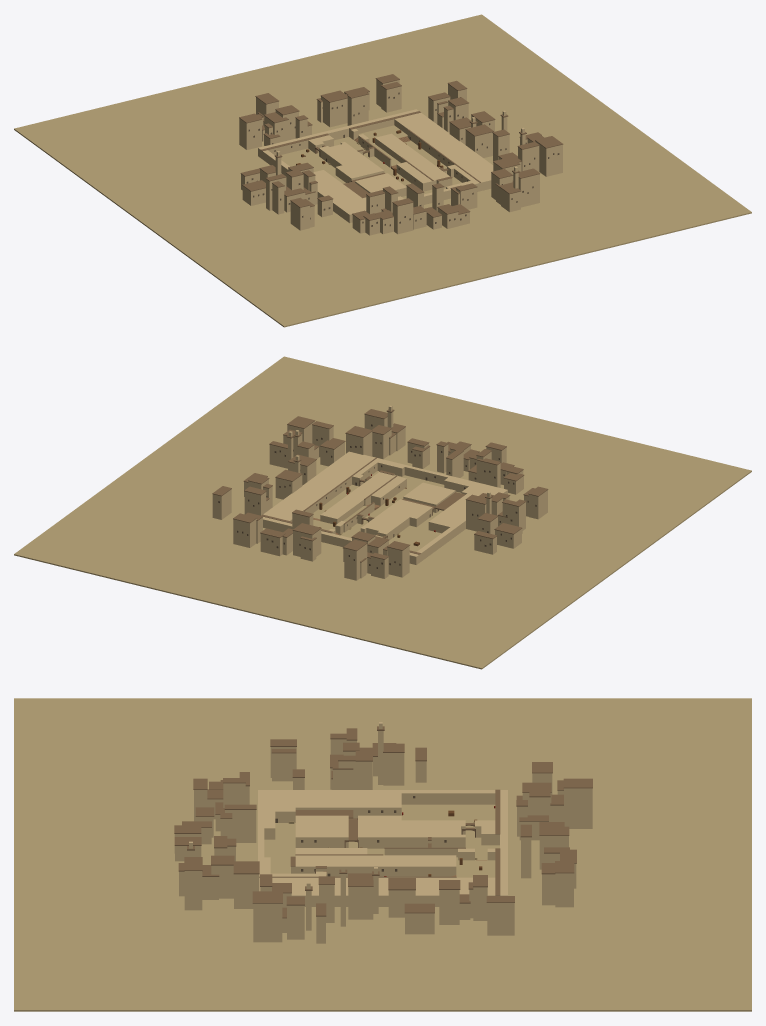
The model's file is de_aq_dust2.glb.
3 renders of one model, top to bottom at view 1: azimuth 30°, elevation 25°; view 2: azimuth 150°, elevation 25°; view 3: azimuth 270°, elevation 25°, orthographic. The views are drawn at different scales.
Parts seen in each view (by area): view 1: skyline, de_aq_dust2; view 2: skyline, de_aq_dust2; view 3: skyline, de_aq_dust2.
Boxes of the visible parts, bbox=[...] form: skyline: bbox=[14, 14, 751, 327]; de_aq_dust2: bbox=[258, 109, 493, 222]; skyline: bbox=[14, 356, 751, 669]; de_aq_dust2: bbox=[261, 451, 507, 564]; skyline: bbox=[14, 698, 751, 1011]; de_aq_dust2: bbox=[258, 789, 507, 906].
Size of the model in its own units: 15120 by 1448 by 15120.
